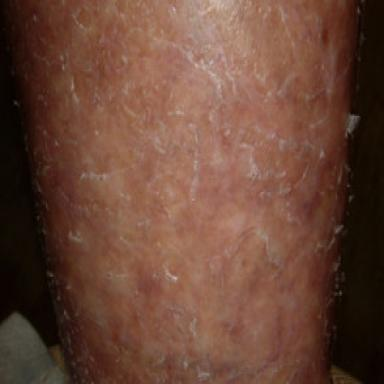eczema: (7, 2, 354, 382)
